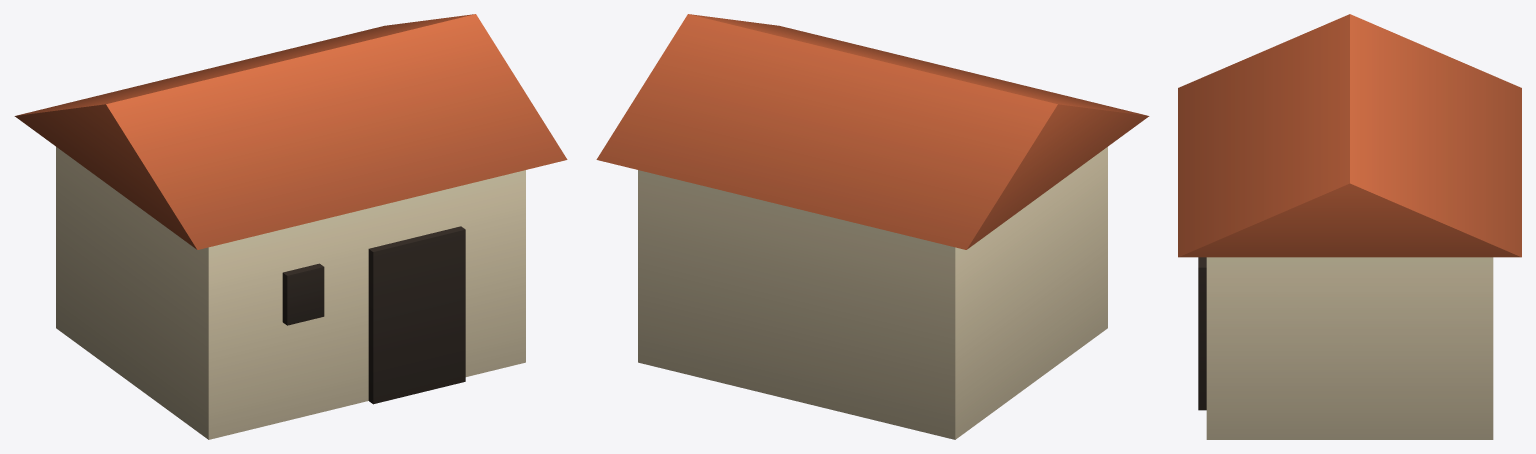
The model's file is house_ME_2b.glb.
The picture shows the model from 3 angles, left to right: view 1: azimuth 30°, elevation 25°; view 2: azimuth 150°, elevation 25°; view 3: azimuth 270°, elevation 25°; orthographic projection. The views are drawn at different scales.
Parts seen in each view (by area): view 1: Body; view 2: Body; view 3: Body.
Part boxes in pixels (x1,y1,x2,y2): Body: (14,14,567,439); Body: (596,14,1149,439); Body: (1178,14,1521,439).
Bounding box in the file's own units: 1.4 × 1.03 × 1.2.
Materials: 1 (1 with a texture image).
